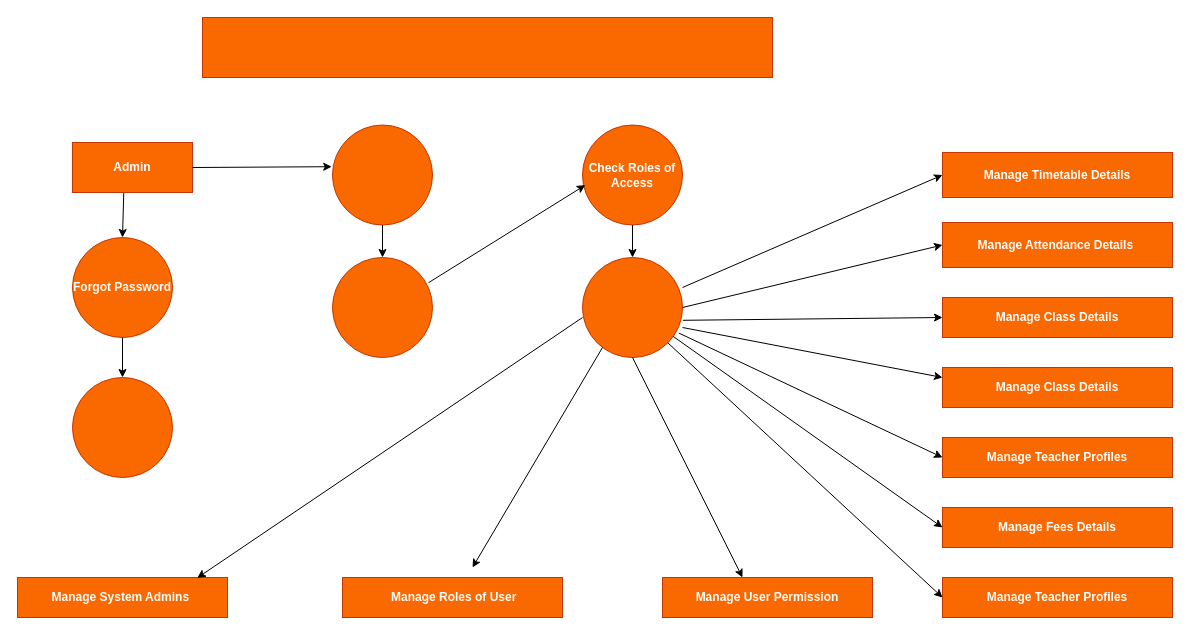
Some shapes in this 1190 by 635 pixel diagram are drawn without their labels. Each missing label, with the centre of its shape:
Check Credentials: the point at 382,307
Login to system: the point at 382,174
Manage Modules: the point at 632,307
Send Email to User: the point at 122,427
Student Information system: the point at 487,47
